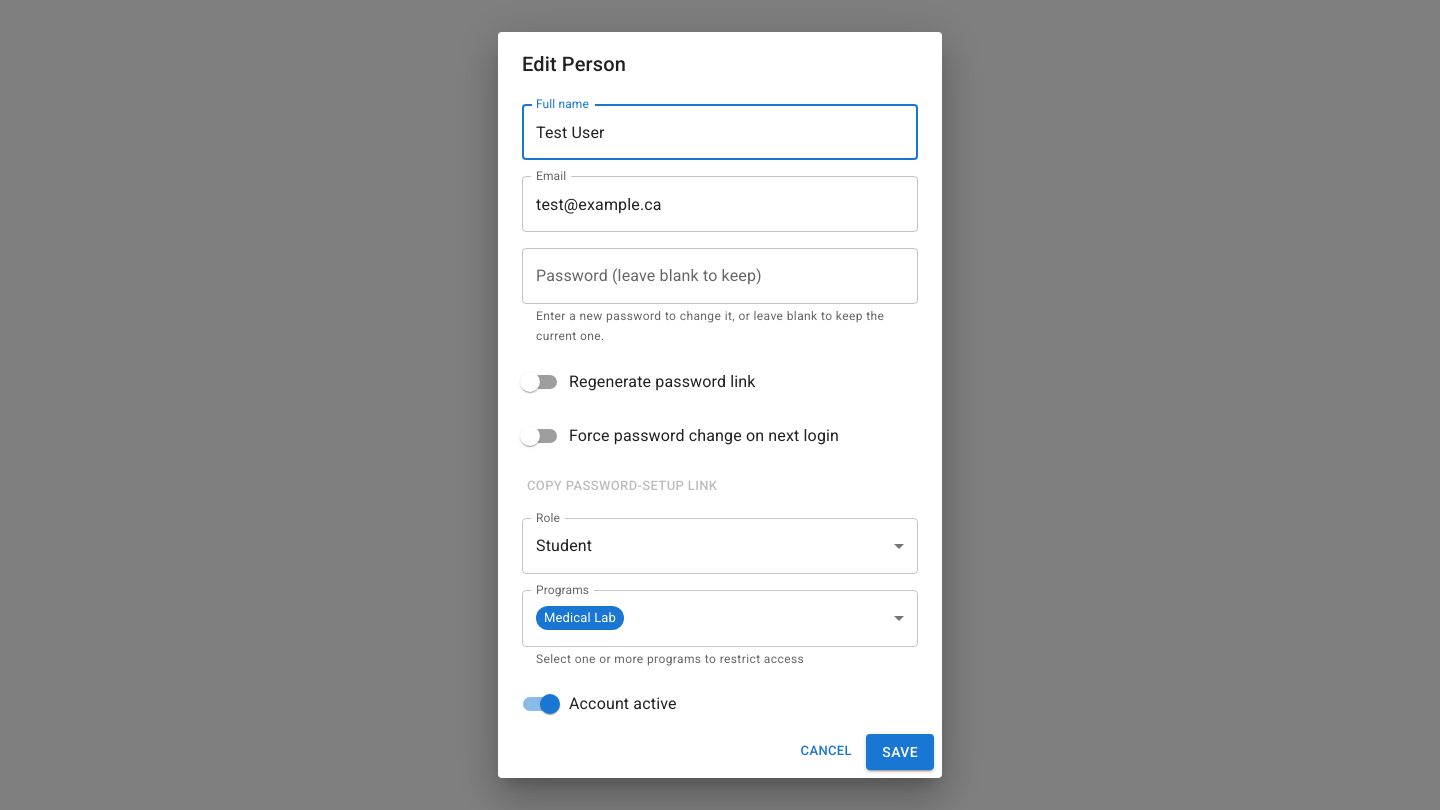
AddEditPersonModal › uses saved eligibility active=true oidc=false password=true
Hover over the element showing "Copy password-setup link" at x=622, y=486, box [522, 471, 722, 502]
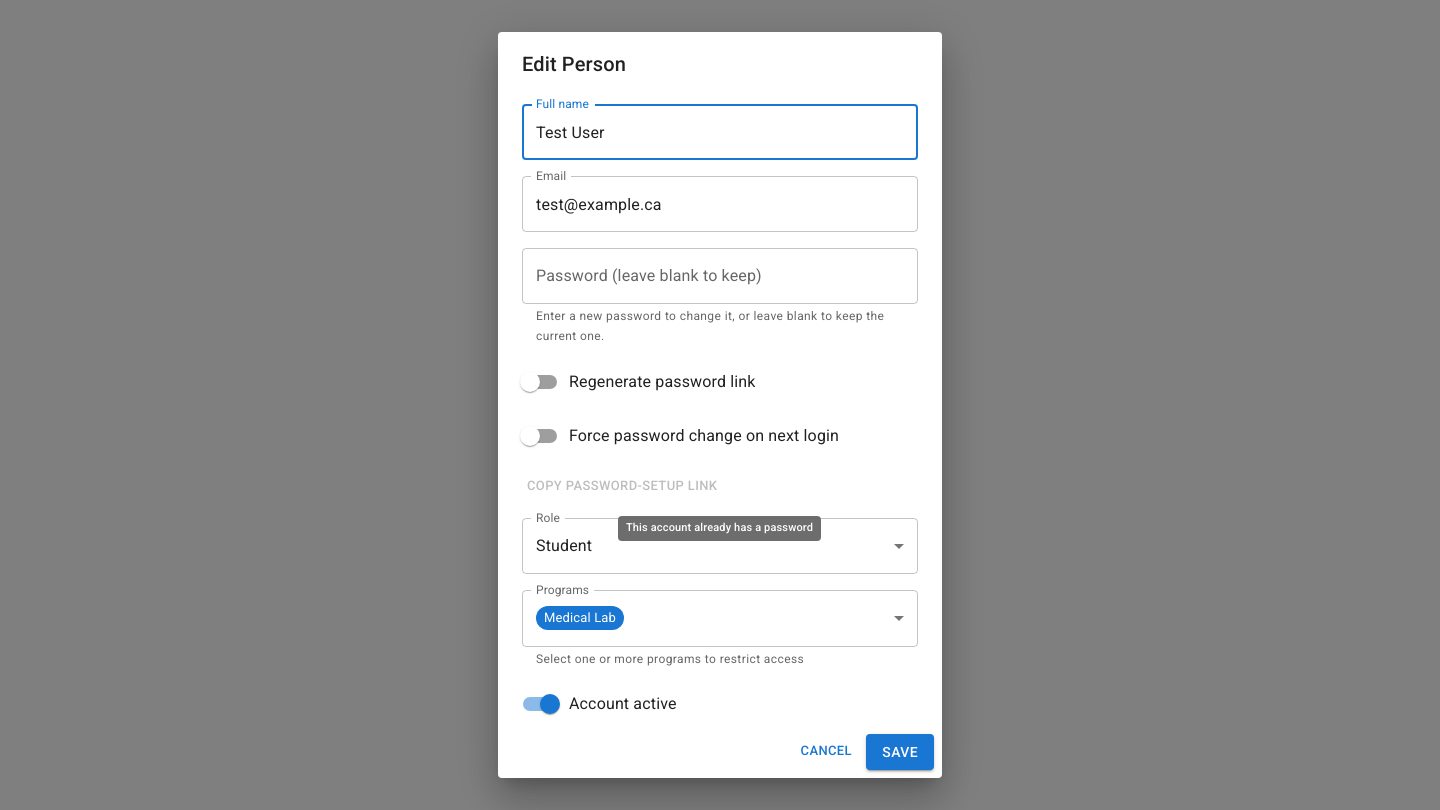
Expected: the tooltip reads "This account already has a password", [626, 521, 813, 534]
